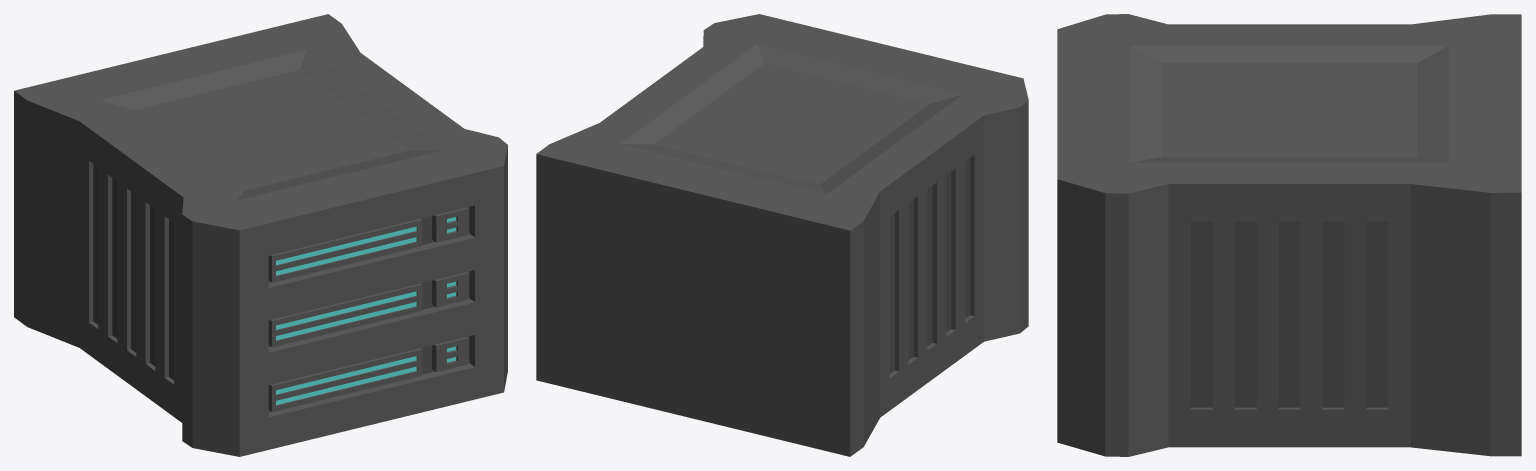
Rendered from Server unit.fbx.
3 renders of one model, left to right at view 1: azimuth 30°, elevation 25°; view 2: azimuth 150°, elevation 25°; view 3: azimuth 270°, elevation 25°, orthographic. The views are drawn at different scales.
Parts seen in each view (by area): view 1: Server Farm unit 6.004; view 2: Server Farm unit 6.004; view 3: Server Farm unit 6.004.
Boxes of the visible parts, x1=… form: Server Farm unit 6.004: x1=14, y1=14, x2=507, y2=456; Server Farm unit 6.004: x1=536, y1=14, x2=1028, y2=456; Server Farm unit 6.004: x1=1057, y1=14, x2=1521, y2=456.
Size of the model in its own units: 44.21 by 30.24 by 48.28.
